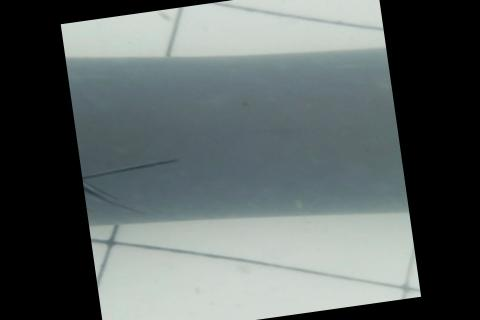keretakan: (79, 156, 186, 223)
